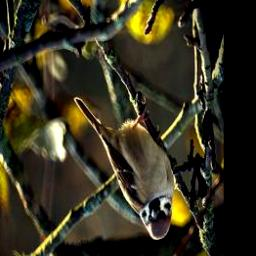Sparrow: (73, 93, 174, 243)
